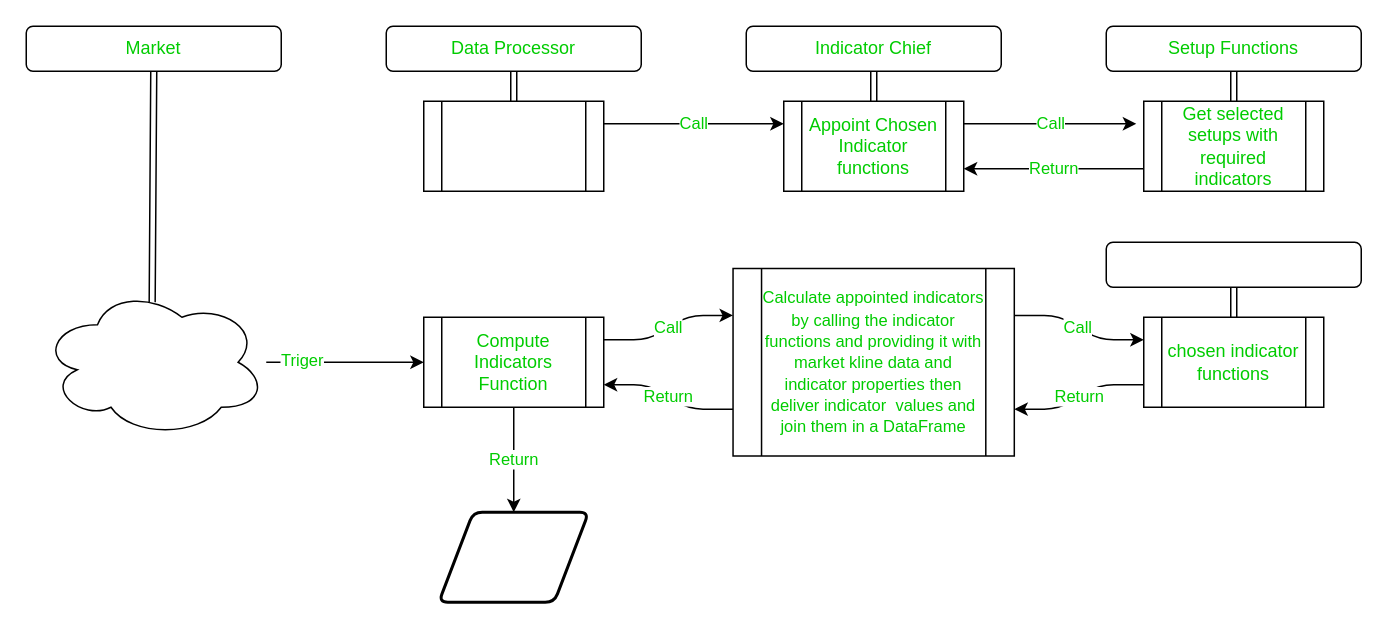
The diagram is 1388 pixels wide and 630 high, and some of its shapes have lost their labels. The shapes that lost their labels are listed below. From the top down, each one's box as (x1, y1, x2, y2) in pixels, then its label:
(422, 100, 604, 191): Awake Indicators and connect dispatchers to Events
(1105, 241, 1361, 287): Indicator Functions
(40, 286, 266, 437): New Market Data Event
(436, 510, 590, 603): Indicators DataFrame
